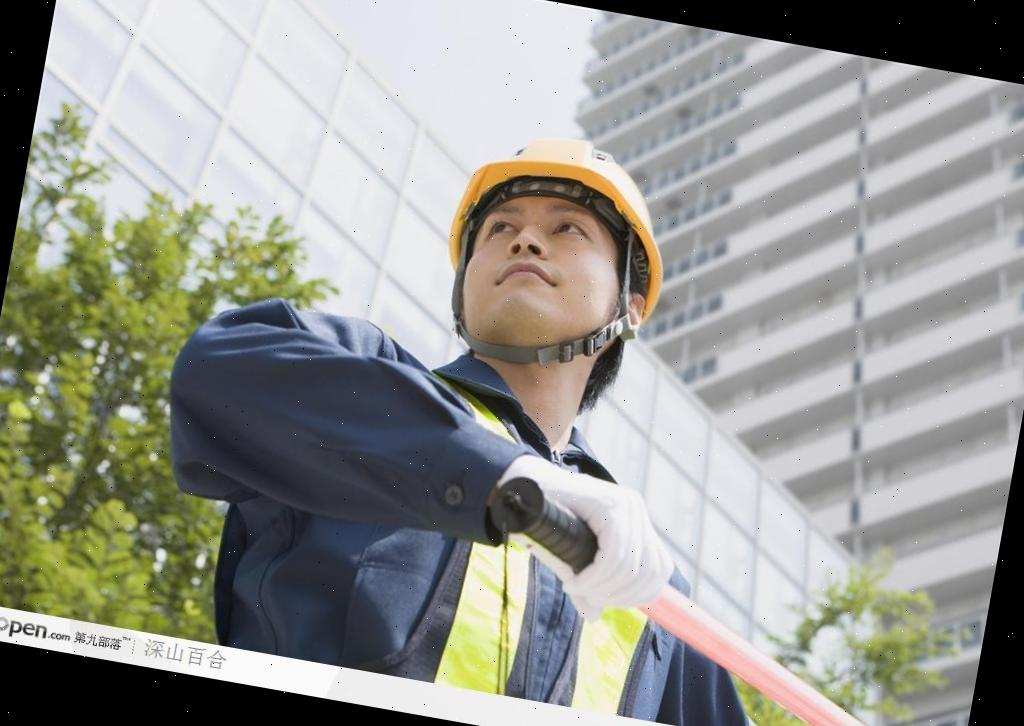helmet: (432, 110, 700, 326)
wear: (204, 314, 791, 726)
